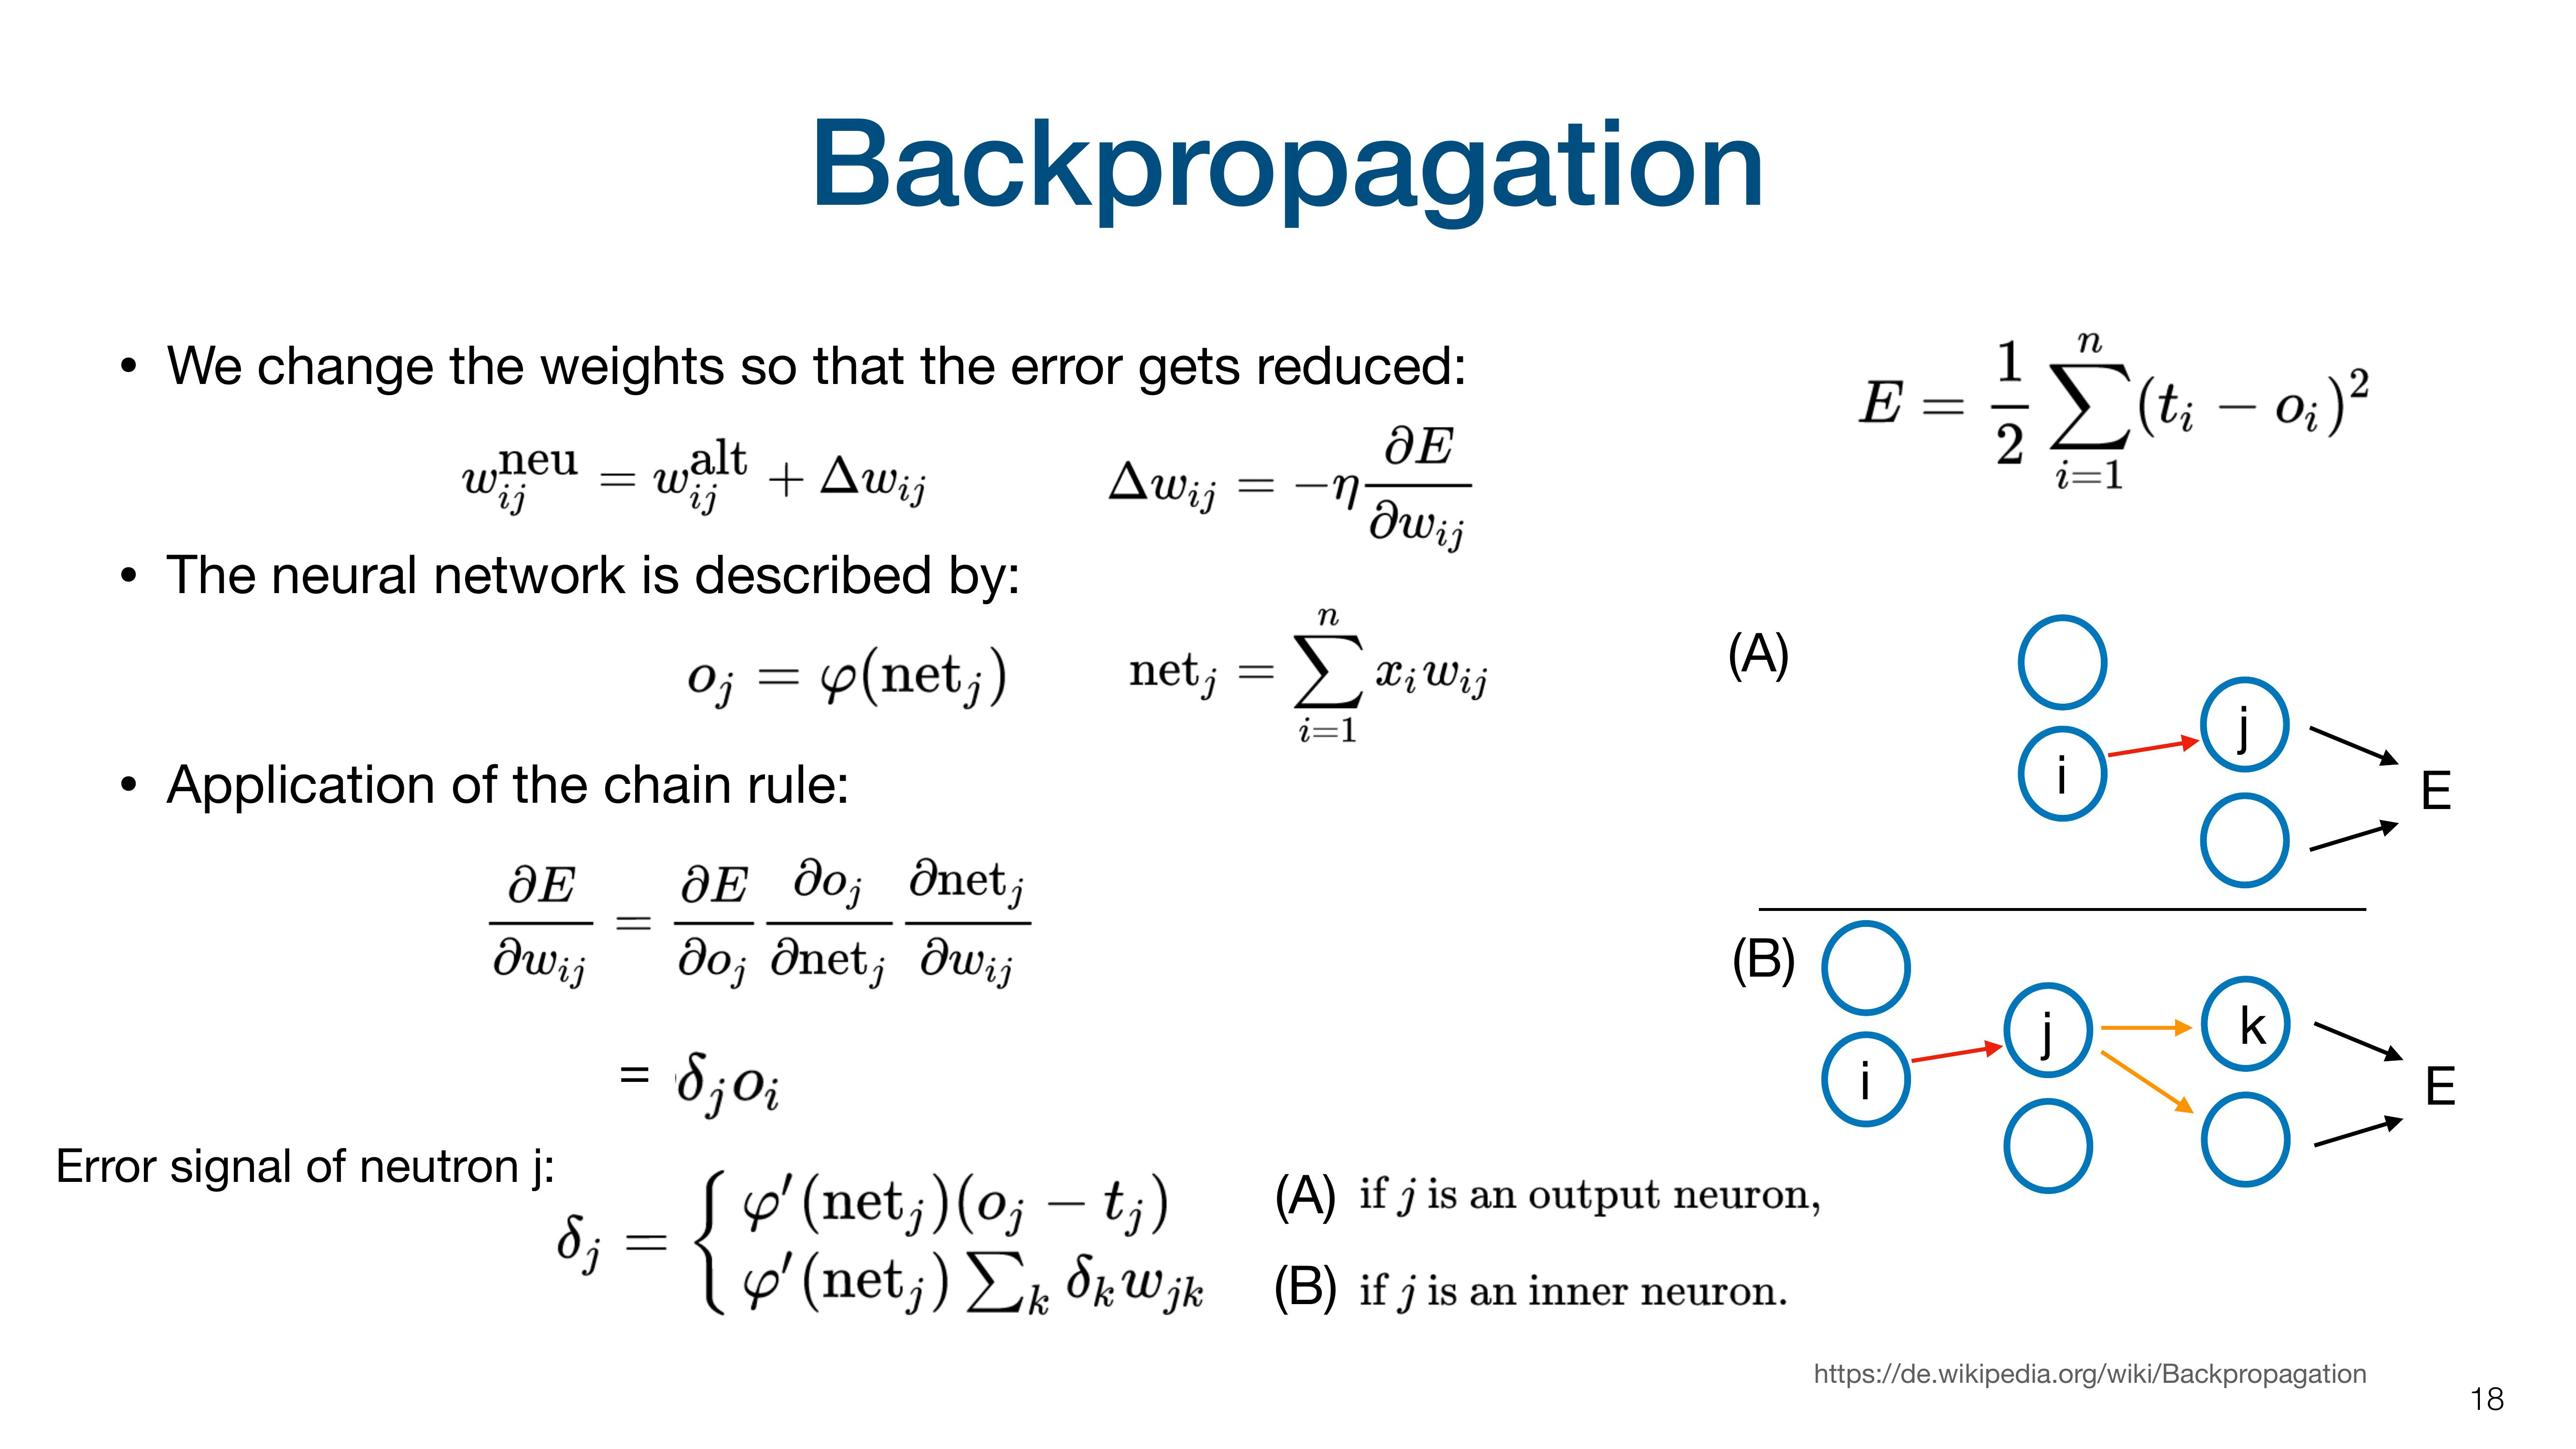Title: (743, 51, 1785, 257)
